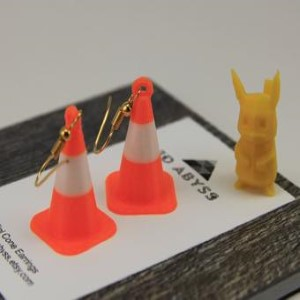traffic cone: (30, 106, 117, 256), (105, 77, 177, 216)
